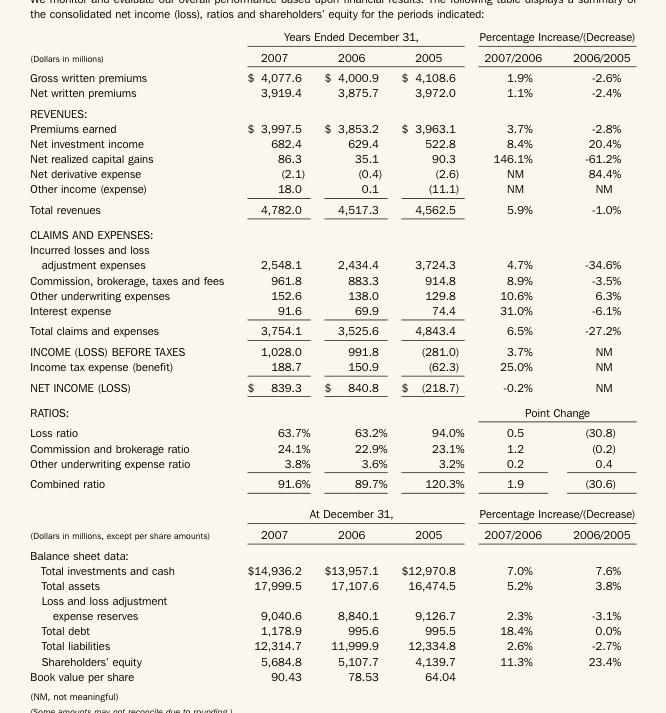table: (29, 29, 634, 682)
table column: (29, 29, 234, 682), (471, 29, 556, 682), (234, 29, 316, 682), (393, 29, 471, 682), (556, 29, 634, 682), (316, 29, 393, 682)
table column header: (29, 29, 634, 66)
table projected row header: (29, 221, 634, 241), (29, 102, 634, 120), (29, 544, 634, 561)
table row: (29, 241, 634, 271), (29, 592, 634, 622), (29, 472, 634, 498), (29, 498, 634, 523), (29, 198, 634, 221), (29, 376, 634, 399), (29, 399, 634, 421), (29, 319, 634, 340), (29, 523, 634, 544), (29, 46, 634, 66), (29, 221, 634, 241), (29, 66, 634, 84), (29, 84, 634, 102), (29, 102, 634, 120), (29, 180, 634, 198), (29, 340, 634, 358), (29, 358, 634, 376), (29, 421, 634, 439), (29, 454, 634, 472), (29, 29, 634, 46), (29, 302, 634, 319), (29, 544, 634, 561), (29, 271, 634, 287), (29, 561, 634, 577), (29, 652, 634, 668), (29, 120, 634, 135), (29, 135, 634, 150), (29, 150, 634, 165), (29, 165, 634, 180), (29, 287, 634, 302), (29, 439, 634, 454), (29, 577, 634, 592), (29, 622, 634, 637), (29, 637, 634, 652), (29, 668, 634, 682)
table spanning cell: (29, 29, 234, 66), (234, 498, 471, 523), (471, 498, 634, 523), (234, 29, 471, 46), (471, 399, 634, 421), (471, 29, 634, 46)
